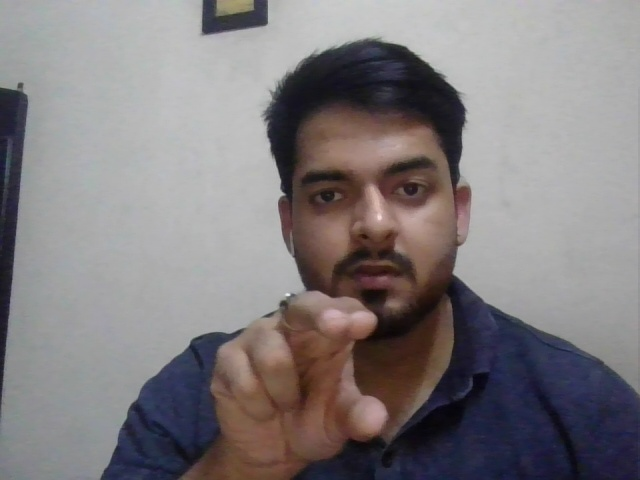no: (207, 289, 391, 460)
